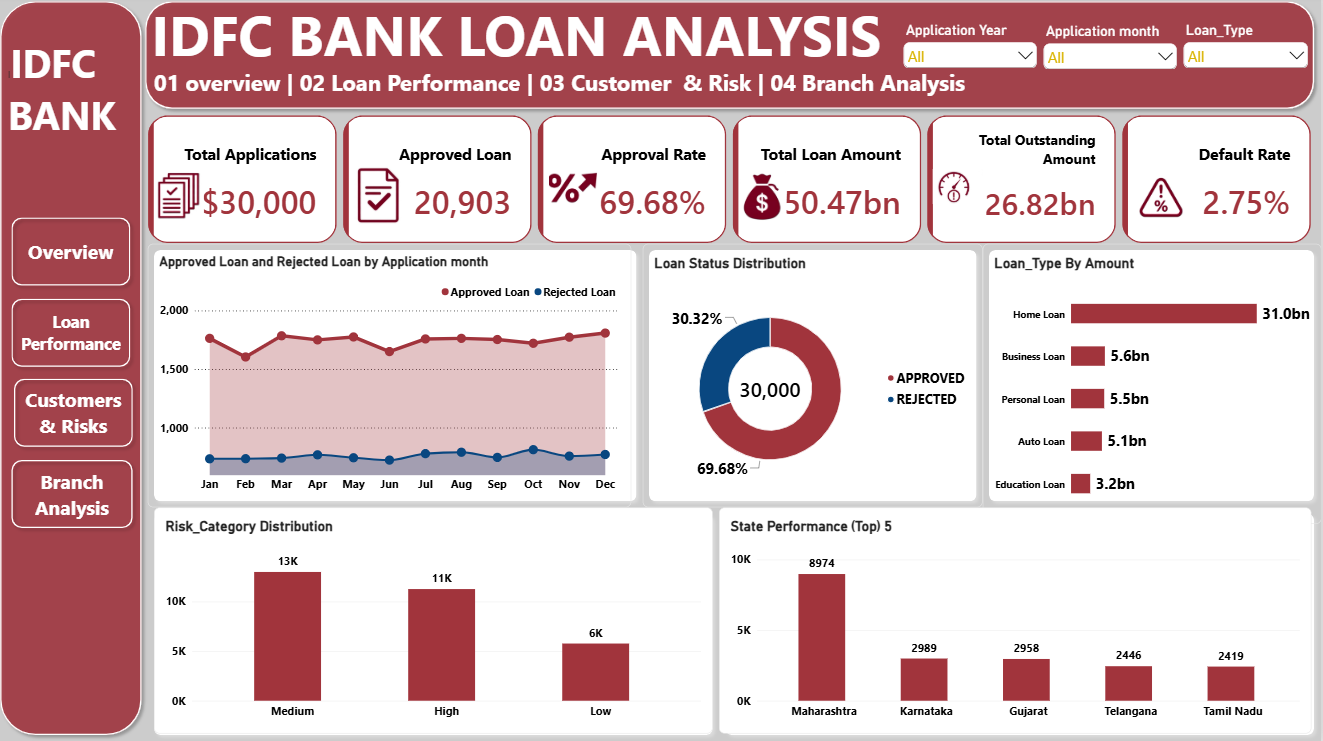

Layout of this report page (visuals, bound fields, positions):
{"tool":"powerbi","page":{"name":"01 OverView","canvas":[1920,1080],"ordinal":0},"visuals":[{"type":"shape","box":[209.9,0,1710.1,173.7],"z":0},{"type":"shape","box":[0,0,222.6,1080.4],"z":1000},{"type":"textbox","box":[228,1.8,1388,137.5],"z":2000},{"type":"cardVisual","fields":{"Data":["Loan_Clean Data.Total Applications","Loan_Clean Data.Approved Loan","Loan_Clean Data.Approval Rate","Loan_Clean Data.Total Loan Amount","Loan_Clean Data.Total Outstanding Amount","Loan_Clean Data.Default Rate"]},"box":[222.6,173.7,1684.8,186.4],"z":3000},{"type":"shape","box":[222.6,360.1,716.6,381.8],"z":4000},{"type":"shape","box":[939.2,360.1,492.2,381.8],"z":5000},{"type":"shape","box":[1431.4,360.1,488.6,381.8],"z":6000},{"type":"shape","box":[222.6,742,827,338.4],"z":7000},{"type":"shape","box":[1049.6,742,870.4,338.4],"z":8000},{"type":"lineChart","fields":{"Category":["Loan_Clean Data.Application month"],"Y":["Loan_Clean Data.Approved Loan","Loan_Clean Data.Rejected Loan"]},"box":[222.6,360.1,700.3,381.8],"z":9000},{"type":"donutChart","title":"Loan Status Distribution","fields":{"Category":["Loan_Clean Data.Application_Status"],"Y":["CountNonNull(Loan_Clean Data.Loan_ID)"]},"box":[939.2,360.1,492.2,381.8],"z":10000},{"type":"clusteredBarChart","title":"Loan_Type By Amount","fields":{"Category":["Loan_Clean Data.Loan_Type"],"Y":["Sum(Loan_Clean Data.Loan_Amount)"]},"box":[1431.4,360.1,490.4,405.4],"z":11000},{"type":"columnChart","title":" Risk_Category Distribution","fields":{"Category":["Loan_Clean Data.Risk_Category"],"Y":["CountNonNull(Loan_Clean Data.Loan_ID)"]},"box":[231.6,742,808.9,327.5],"z":12000},{"type":"columnChart","title":"State Performance (Top) 5","fields":{"Category":["Loan_Clean Data.State"],"Y":["CountNonNull(Loan_Clean Data.Loan_ID)"]},"box":[1049.6,742,857.8,327.5],"z":13000},{"type":"textbox","box":[231.7,105,1426,59.7],"z":14000},{"type":"slicer","fields":{"Values":["Loan_Clean Data.Application Year"]},"box":[1312,38,202.7,67],"z":15000},{"type":"slicer","fields":{"Values":["Loan_Clean Data.Application month"]},"box":[1514.7,39.8,202.7,67],"z":16000},{"type":"slicer","fields":{"Values":["Loan_Clean Data.Loan_Type"]},"box":[1717.4,38,190,67],"z":17000},{"type":"actionButton","box":[16.7,313.3,190,116.7],"z":18000},{"type":"actionButton","box":[16.7,430,190,116.7],"z":19000},{"type":"actionButton","box":[20,546.7,190,116.7],"z":20000},{"type":"actionButton","box":[16.7,663.3,193.3,116.7],"z":21000},{"type":"image","box":[231.6,197.3,72.4,188.2],"z":22000},{"type":"image","box":[521.2,197.3,72.4,188.2],"z":23000},{"type":"image","box":[803.5,182.8,72.4,188.2],"z":24000},{"type":"image","box":[1078.6,197.3,68.8,188.2],"z":25000},{"type":"image","box":[1359.1,139.3,72.4,275.1],"z":26000},{"type":"image","box":[1657.6,197.3,72.4,188.2],"z":27000},{"type":"textbox","box":[19.9,59.7,211.7,217.2],"z":28000}]}

Visuals, with their boxes in screenshot pixels (x1, y1, x2, y2), scaled from the page's 1920x1080 canvas onto the 1323x741 screenshot:
shape: [145, 0, 1322, 119]
shape: [0, 0, 153, 740]
textbox: [157, 1, 1114, 96]
cardVisual - Loan_Clean Data.Total Applications x Loan_Clean Data.Approved Loan: [153, 119, 1314, 247]
shape: [153, 247, 647, 509]
shape: [647, 247, 986, 509]
shape: [986, 247, 1322, 509]
shape: [153, 509, 723, 740]
shape: [723, 509, 1322, 740]
lineChart - Loan_Clean Data.Application month x Loan_Clean Data.Approved Loan: [153, 247, 636, 509]
"Loan Status Distribution" donutChart: [647, 247, 986, 509]
"Loan_Type By Amount" clusteredBarChart: [986, 247, 1322, 525]
" Risk_Category Distribution" columnChart: [160, 509, 717, 734]
"State Performance (Top) 5" columnChart: [723, 509, 1314, 734]
textbox: [160, 72, 1142, 113]
slicer - Loan_Clean Data.Application Year: [904, 26, 1044, 72]
slicer - Loan_Clean Data.Application month: [1044, 27, 1183, 73]
slicer - Loan_Clean Data.Loan_Type: [1183, 26, 1314, 72]
actionButton: [12, 215, 142, 295]
actionButton: [12, 295, 142, 375]
actionButton: [14, 375, 145, 455]
actionButton: [12, 455, 145, 535]
image: [160, 135, 209, 264]
image: [359, 135, 409, 264]
image: [554, 125, 604, 255]
image: [743, 135, 791, 264]
image: [937, 96, 986, 284]
image: [1142, 135, 1192, 264]
textbox: [14, 41, 160, 190]
